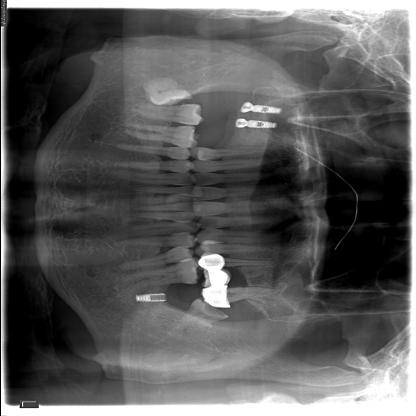Bicon: (129, 292, 171, 305), (249, 104, 284, 115), (247, 119, 279, 131)
